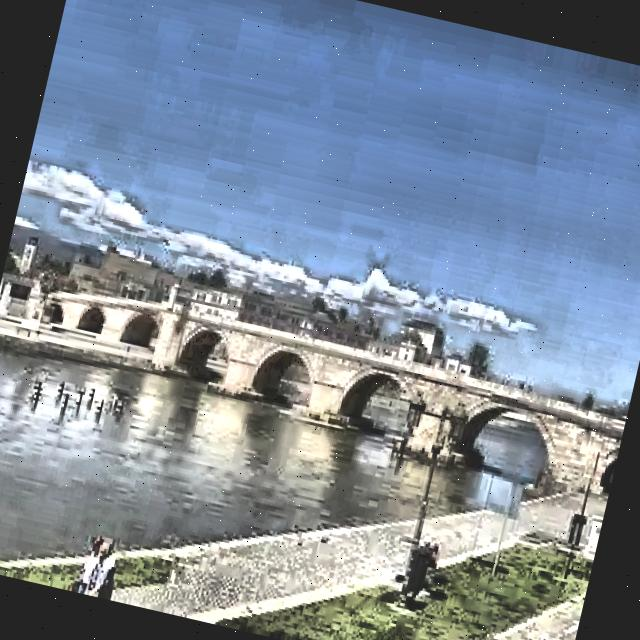stone bridge: (6, 261, 630, 493)
